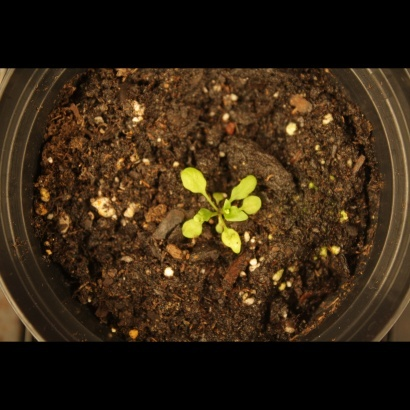leaf: (176, 160, 215, 201), (176, 214, 208, 250), (231, 170, 257, 203), (221, 223, 245, 256), (218, 199, 248, 225), (244, 194, 267, 217)
